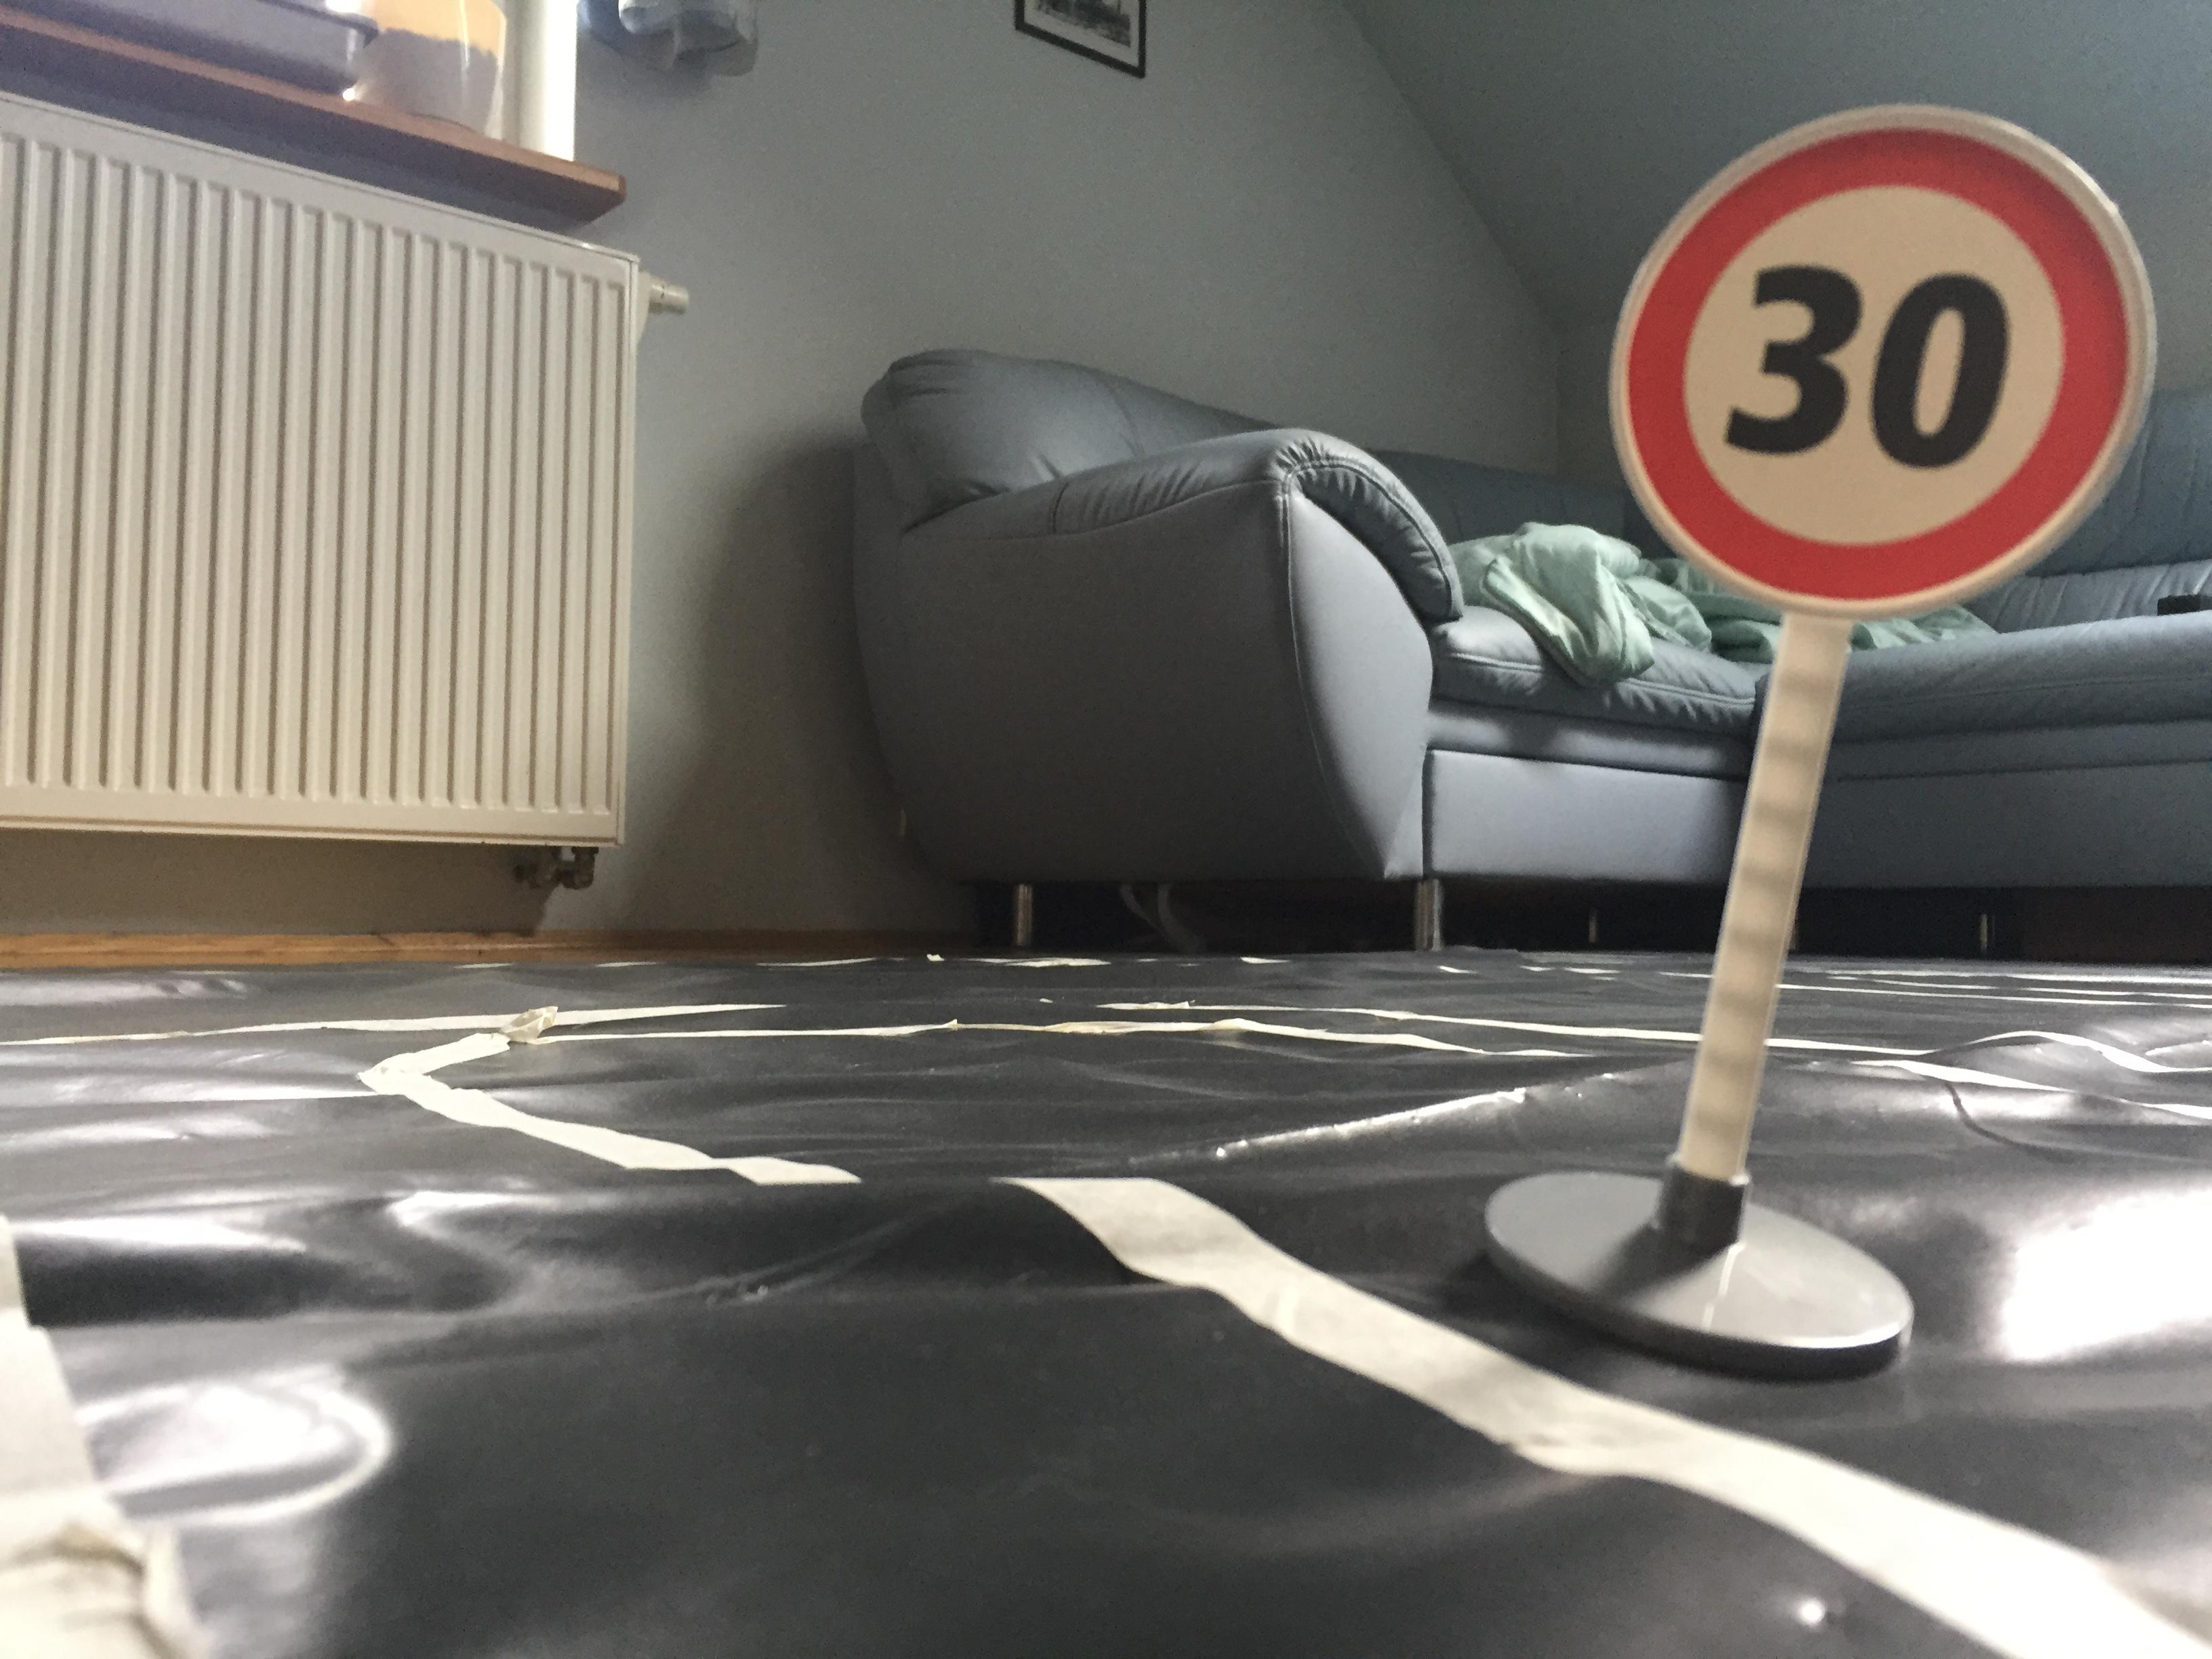speed: (1599, 94, 2167, 638)
